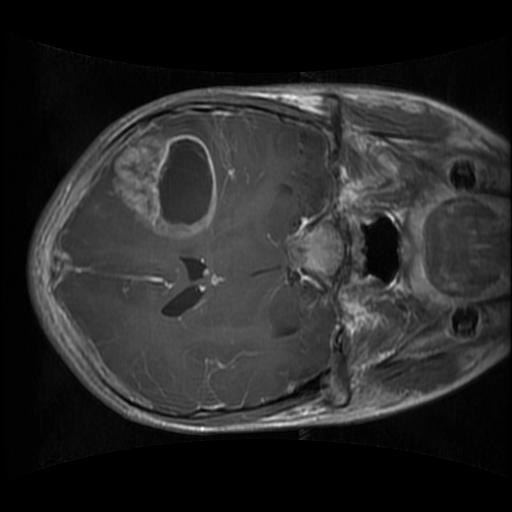glioma: (111, 132, 218, 240)
